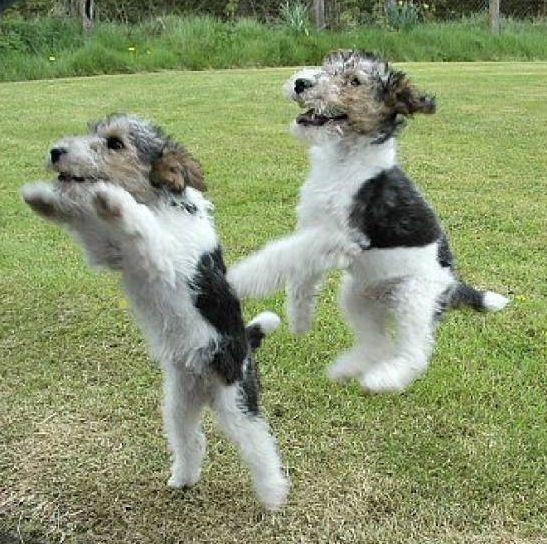puppy-dog: (21, 111, 290, 511), (227, 47, 513, 393)
